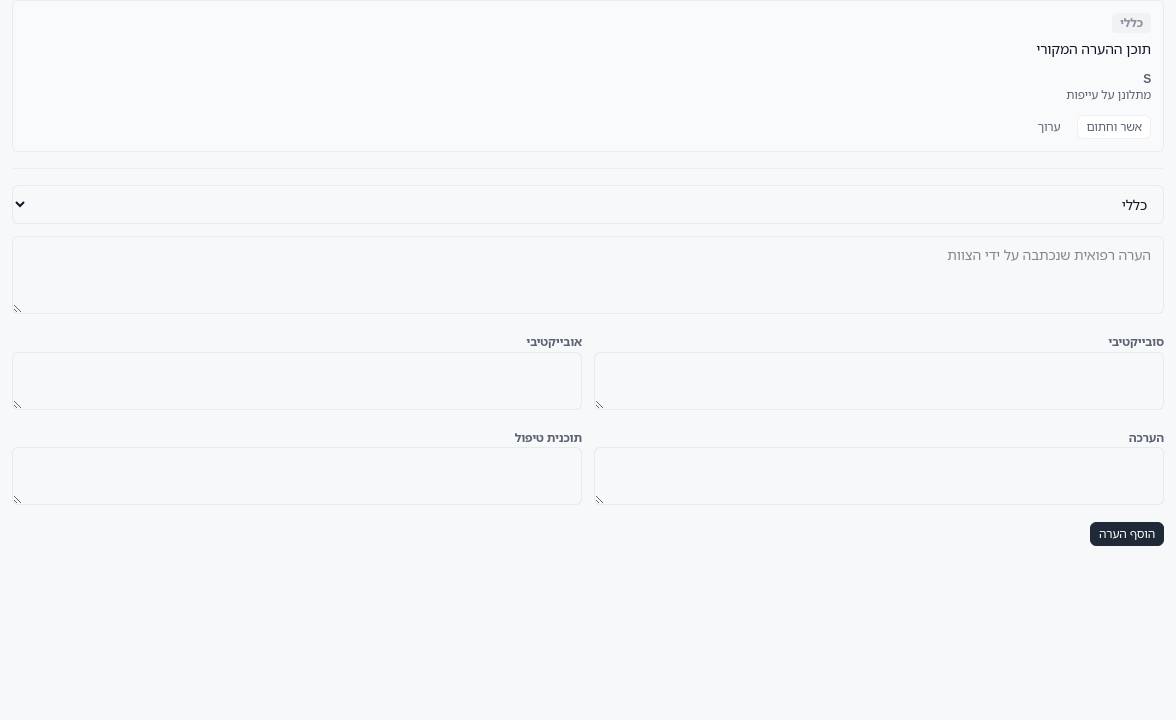
Test: VisitNotesSection › shows edit for an unlocked note (draft) and round-trips a save through PATCH
The image size is (1176, 720).
Click the button "ערוך": (1049, 127) [1028,115,1069,139]
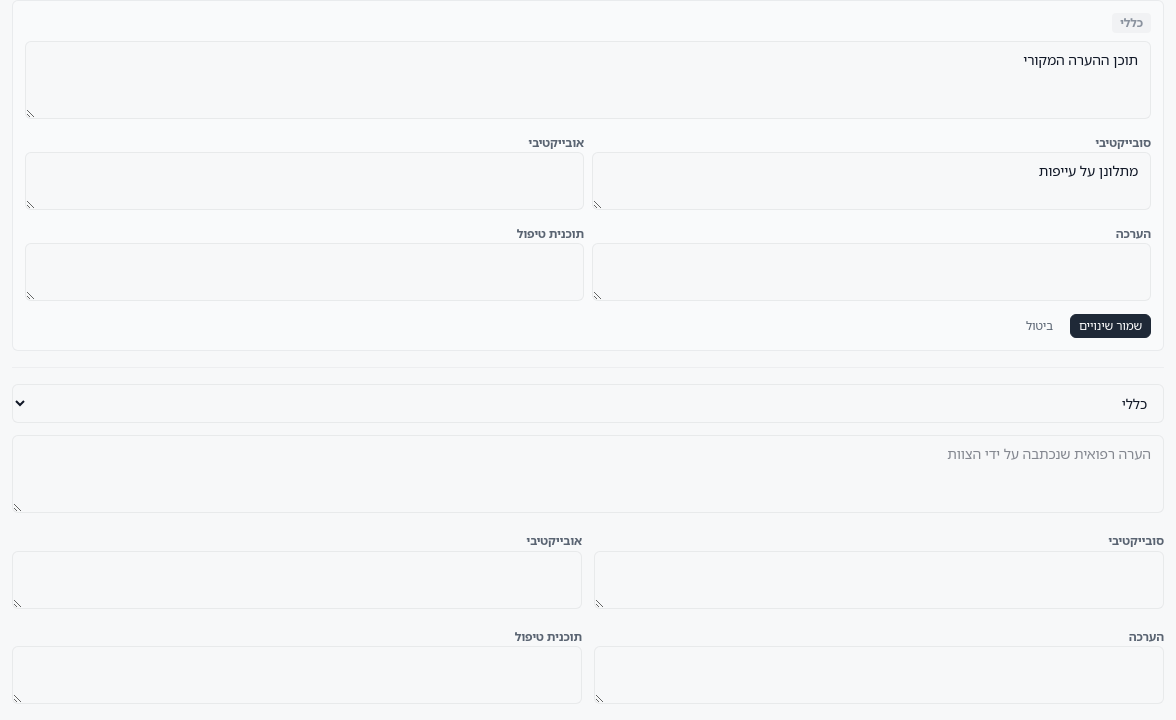
Result: the text box showing "תוכן ההערה המקורי" is shown
Result: the text box showing "מתלונן על עייפות" below "כללי" is shown at [592,152,1151,210]
Replace the text in the text box showing "תוכן ההערה המקורי" with "תוכן מעודכן": (588, 80) [25,41,1151,119]
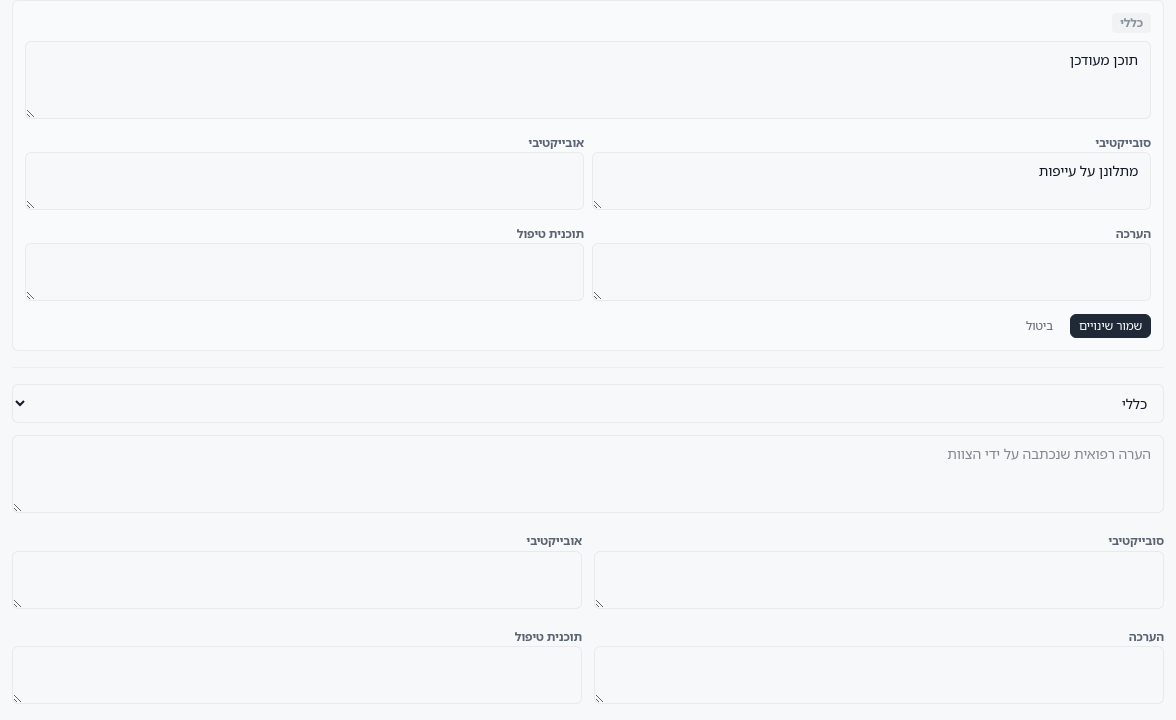
Click the button "שמור שינויים": (1110, 326) [1070,314,1151,338]
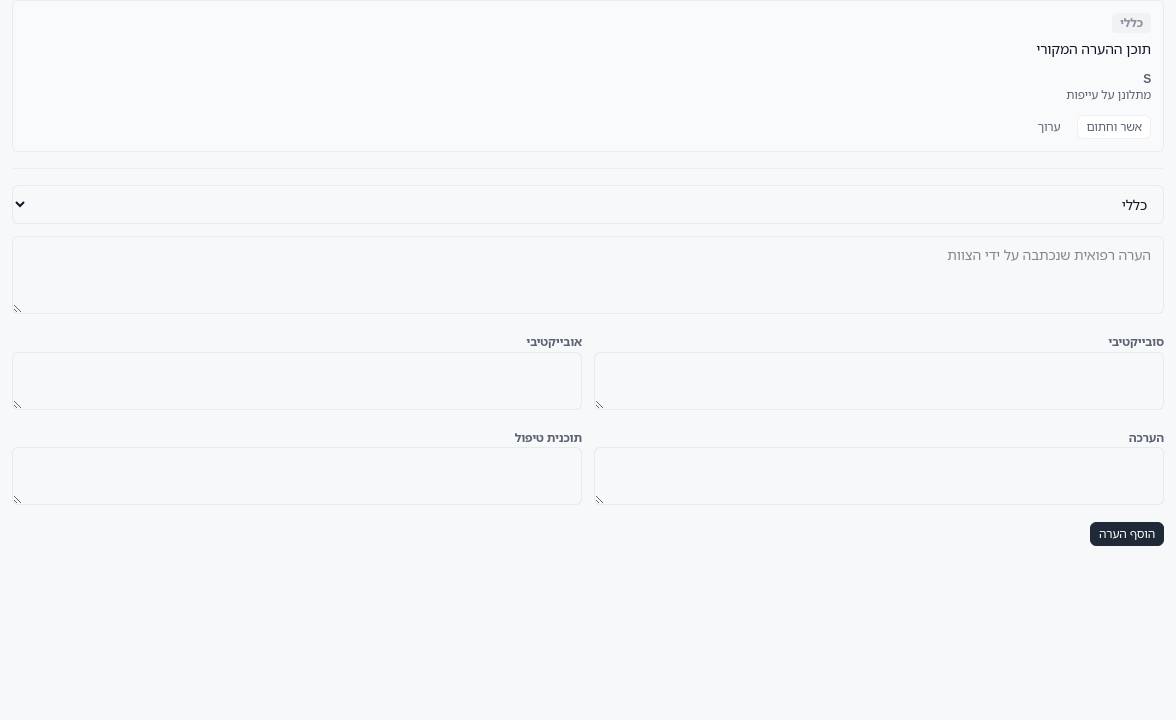
Result: the button "שמור שינויים" is gone
